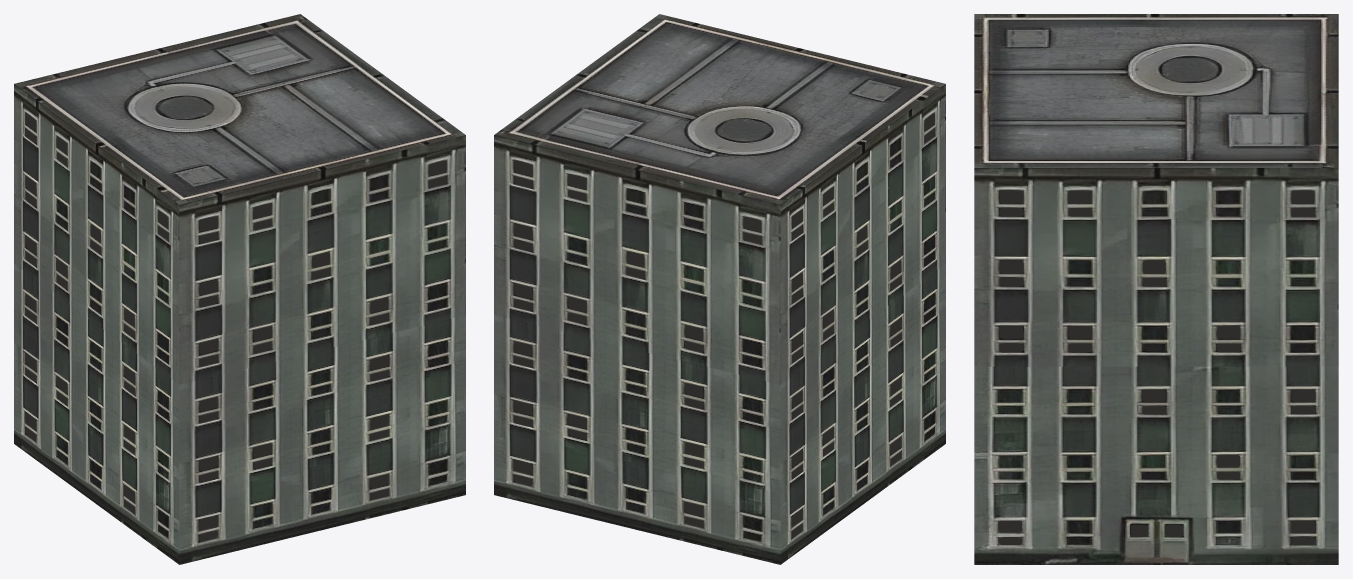
Rendered from city6storyb_hdtex.glb.
3 views of the same model, side by side, from view 1: azimuth 30°, elevation 25°; view 2: azimuth 150°, elevation 25°; view 3: azimuth 270°, elevation 25° (orthographic). The views are drawn at different scales.
Visible parts, largest first — view 1: CityBlock8Story_A01, LitWin_City6Story; view 2: CityBlock8Story_A01, LitWin_City6Story; view 3: CityBlock8Story_A01, LitWin_City6Story.
Boxes of the visible parts, x1,y1,x2,y2 form: CityBlock8Story_A01: (14,14,465,564); LitWin_City6Story: (25,113,446,541); CityBlock8Story_A01: (494,14,945,564); LitWin_City6Story: (514,113,934,537); CityBlock8Story_A01: (974,14,1338,564); LitWin_City6Story: (999,190,1314,544).
Size of the model in its own units: 17.76 by 21.34 by 17.76.
Materials: 1 (1 with a texture image).
